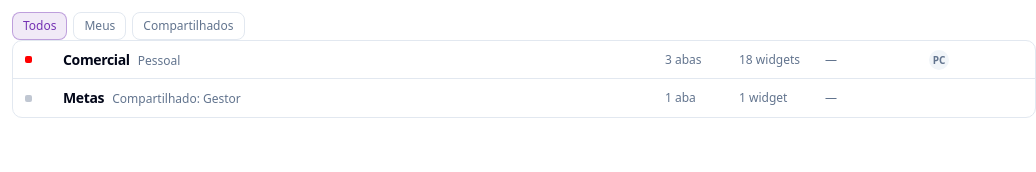
Scenario: lista densa (v1.1, 10/10/2026) › recorte Meus / Compartilhados
This screenshot has width=1036, height=172.
Click the button "Meus" at (100, 26), box [74,12,126,40]
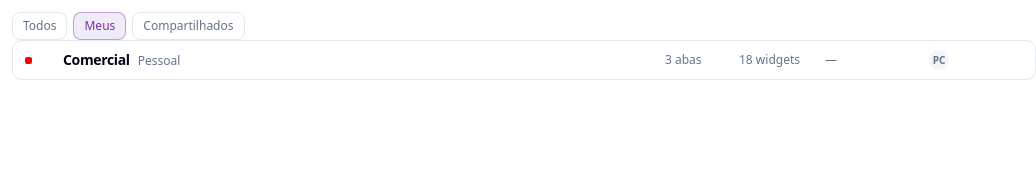
Now the links read "Comercial", in this order, box [63,50,130,70]
Click the button "Compartilhados" at (188, 26), box [132,12,244,40]
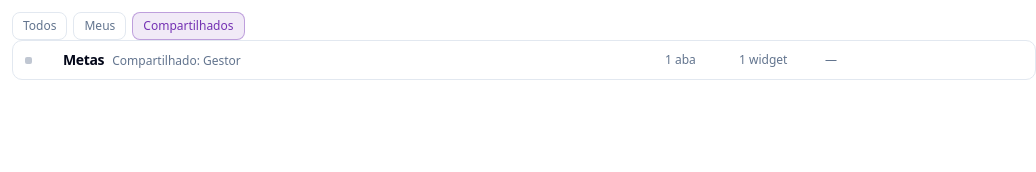
Now the links read "Metas", in this order, box [63,50,104,70]
